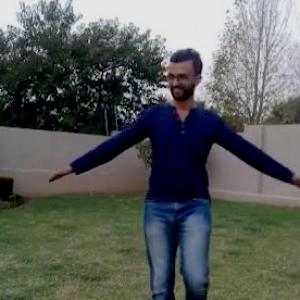land: (43, 40, 295, 299)
